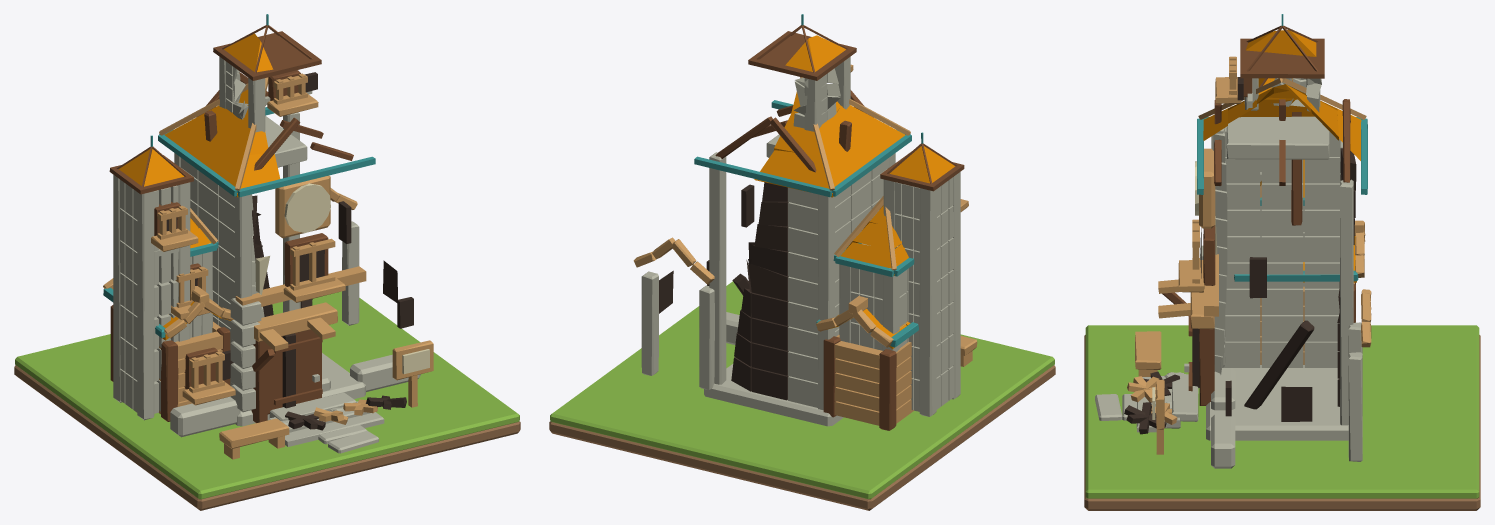
File: town_hall_l08_damaged_LOD1.glb
The picture shows the model from 3 angles, left to right: view 1: azimuth 30°, elevation 25°; view 2: azimuth 150°, elevation 25°; view 3: azimuth 270°, elevation 25°; orthographic projection. The views are drawn at different scales.
Visible parts, largest first — view 1: town_hall_l08_damaged_foundation.001, town_hall_l08_damaged_grass_tile.001, town_hall_l08_damaged_earth_tile.001, town_hall_l08_damaged_path_stone.005; view 2: town_hall_l08_damaged_foundation.001, town_hall_l08_damaged_grass_tile.001, town_hall_l08_damaged_earth_tile.001; view 3: town_hall_l08_damaged_foundation.001, town_hall_l08_damaged_grass_tile.001, town_hall_l08_damaged_earth_tile.001, town_hall_l08_damaged_path_stone.005.
Boxes of the visible parts, bbox=[...] form: town_hall_l08_damaged_foundation.001: bbox=[103, 14, 433, 459]; town_hall_l08_damaged_grass_tile.001: bbox=[15, 291, 519, 499]; town_hall_l08_damaged_earth_tile.001: bbox=[14, 365, 520, 510]; town_hall_l08_damaged_path_stone.005: bbox=[328, 430, 378, 453]; town_hall_l08_damaged_foundation.001: bbox=[633, 14, 977, 430]; town_hall_l08_damaged_grass_tile.001: bbox=[550, 281, 1054, 499]; town_hall_l08_damaged_earth_tile.001: bbox=[549, 365, 1055, 510]; town_hall_l08_damaged_foundation.001: bbox=[1124, 14, 1371, 468]; town_hall_l08_damaged_grass_tile.001: bbox=[1085, 325, 1479, 498]; town_hall_l08_damaged_earth_tile.001: bbox=[1084, 335, 1480, 510]; town_hall_l08_damaged_path_stone.005: bbox=[1095, 394, 1122, 420].
Bounding box in the file's own units: 3.6 × 4.16 × 3.6.
